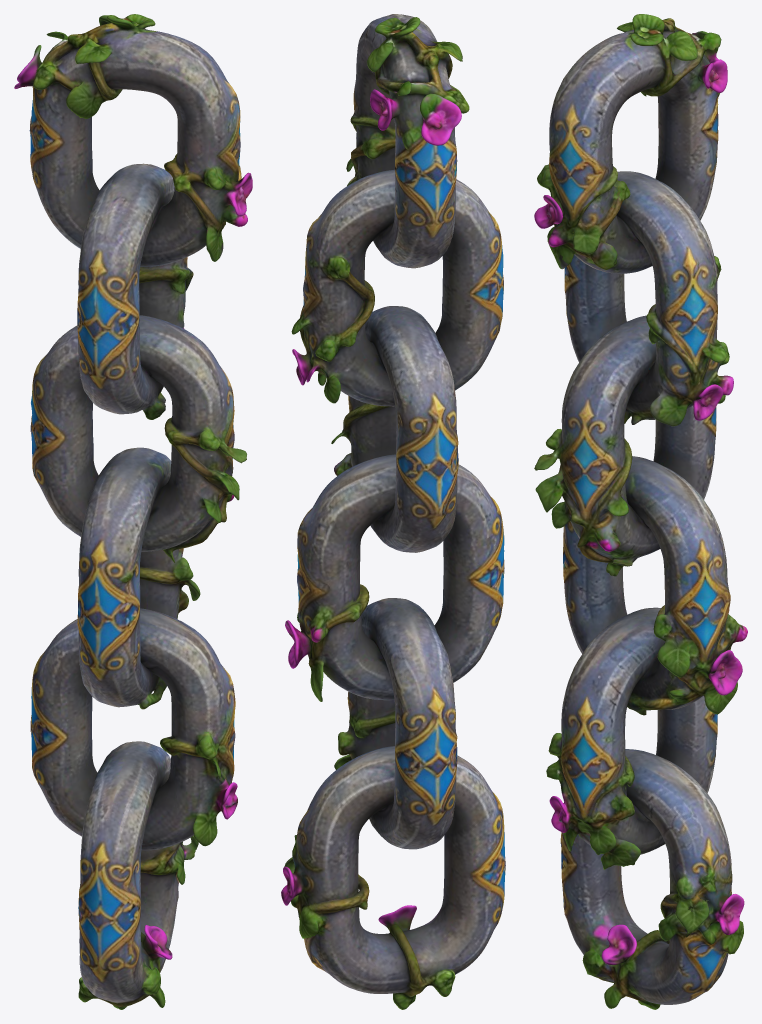
The picture shows the model from 3 angles, left to right: view 1: azimuth 30°, elevation 25°; view 2: azimuth 150°, elevation 25°; view 3: azimuth 270°, elevation 25°; orthographic projection.
Visible parts, largest first — view 1: tripo_node_eac8ad20-79bc-4c8e-a21a-483657753013; view 2: tripo_node_eac8ad20-79bc-4c8e-a21a-483657753013; view 3: tripo_node_eac8ad20-79bc-4c8e-a21a-483657753013.
Boxes of the visible parts, <box> form: tripo_node_eac8ad20-79bc-4c8e-a21a-483657753013: <box>14,14,252,1009</box>; tripo_node_eac8ad20-79bc-4c8e-a21a-483657753013: <box>281,14,505,1009</box>; tripo_node_eac8ad20-79bc-4c8e-a21a-483657753013: <box>534,14,747,1009</box>.
Bounding box in the file's own units: 0.1804 × 0.9771 × 0.1911.
Materials: 1 (1 with a texture image).
